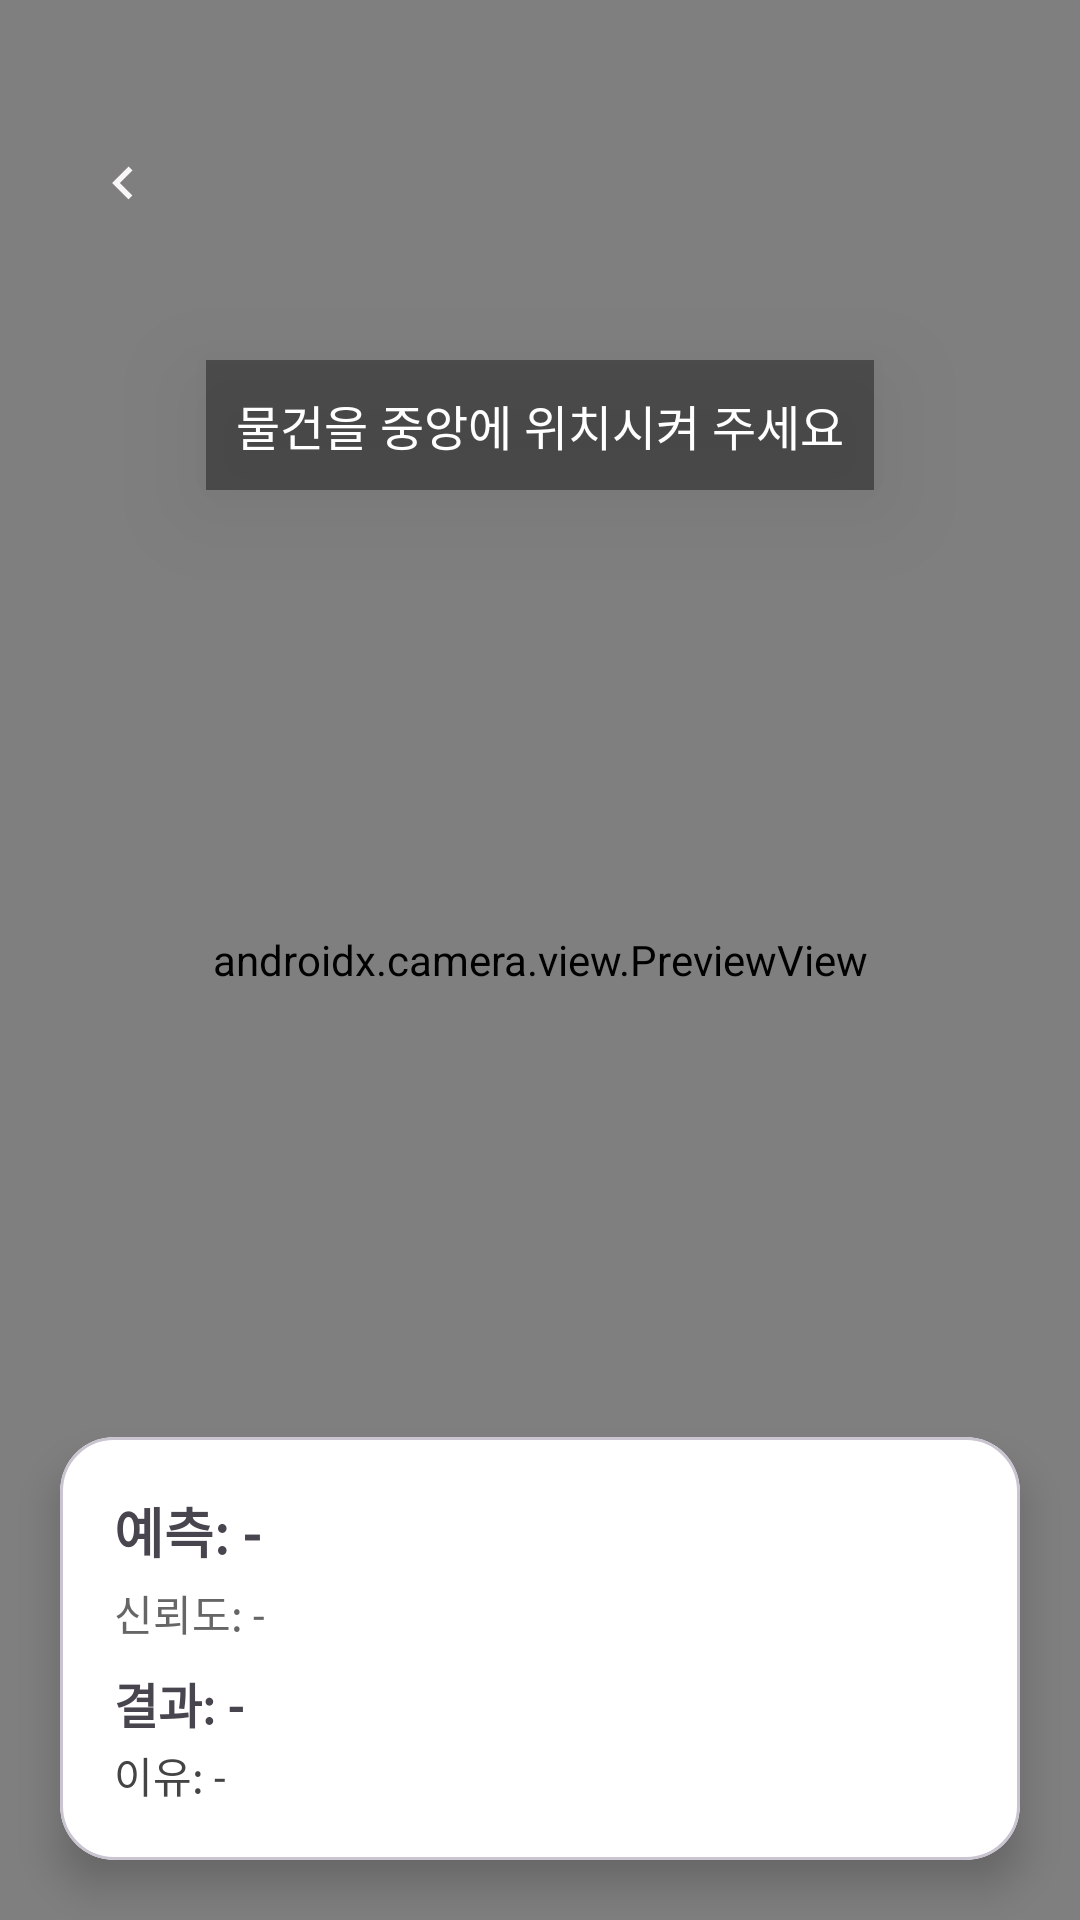

Icon bounding boxes for this 1080*1920 phone screenshot, format [left=x1, top=y1, right=x2, bottom=y2]:
back arrow: [left=112, top=166, right=133, bottom=199]
